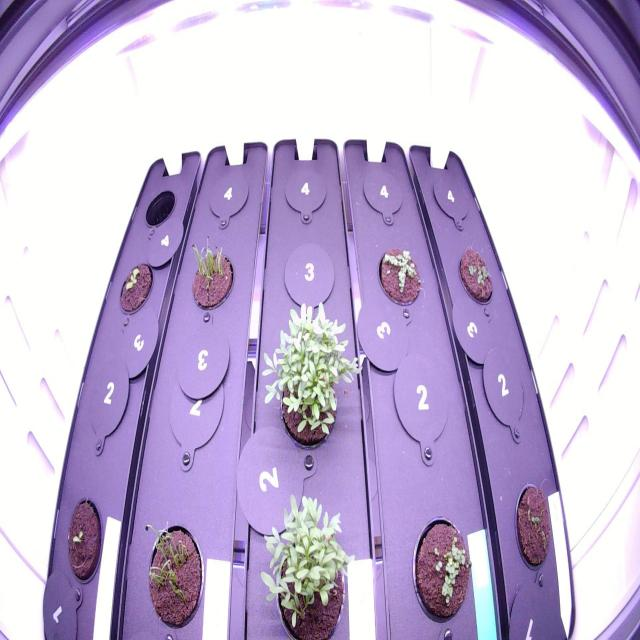empty_pod: (387, 354, 452, 454), (162, 359, 228, 452), (277, 237, 338, 310), (481, 351, 529, 431), (85, 359, 133, 437), (278, 161, 330, 224), (426, 164, 476, 229), (202, 166, 254, 228), (358, 162, 406, 221), (138, 181, 180, 234)
germination: (136, 512, 212, 635), (402, 508, 477, 632), (181, 227, 241, 320), (509, 473, 560, 580), (57, 491, 108, 594), (370, 240, 428, 318), (453, 240, 497, 310), (111, 254, 158, 319)
